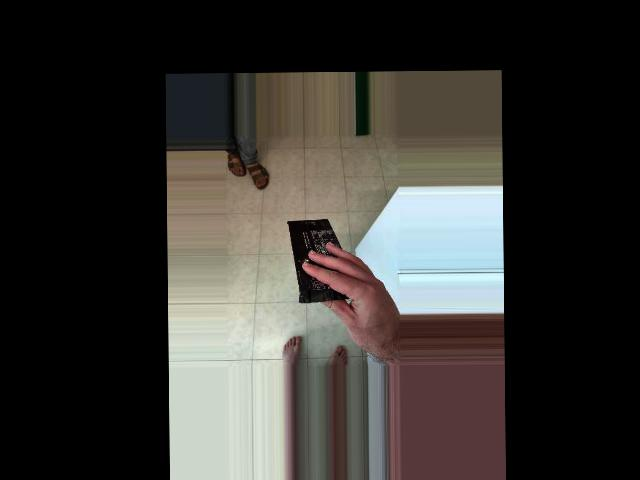chocolate: (287, 215, 361, 319)
